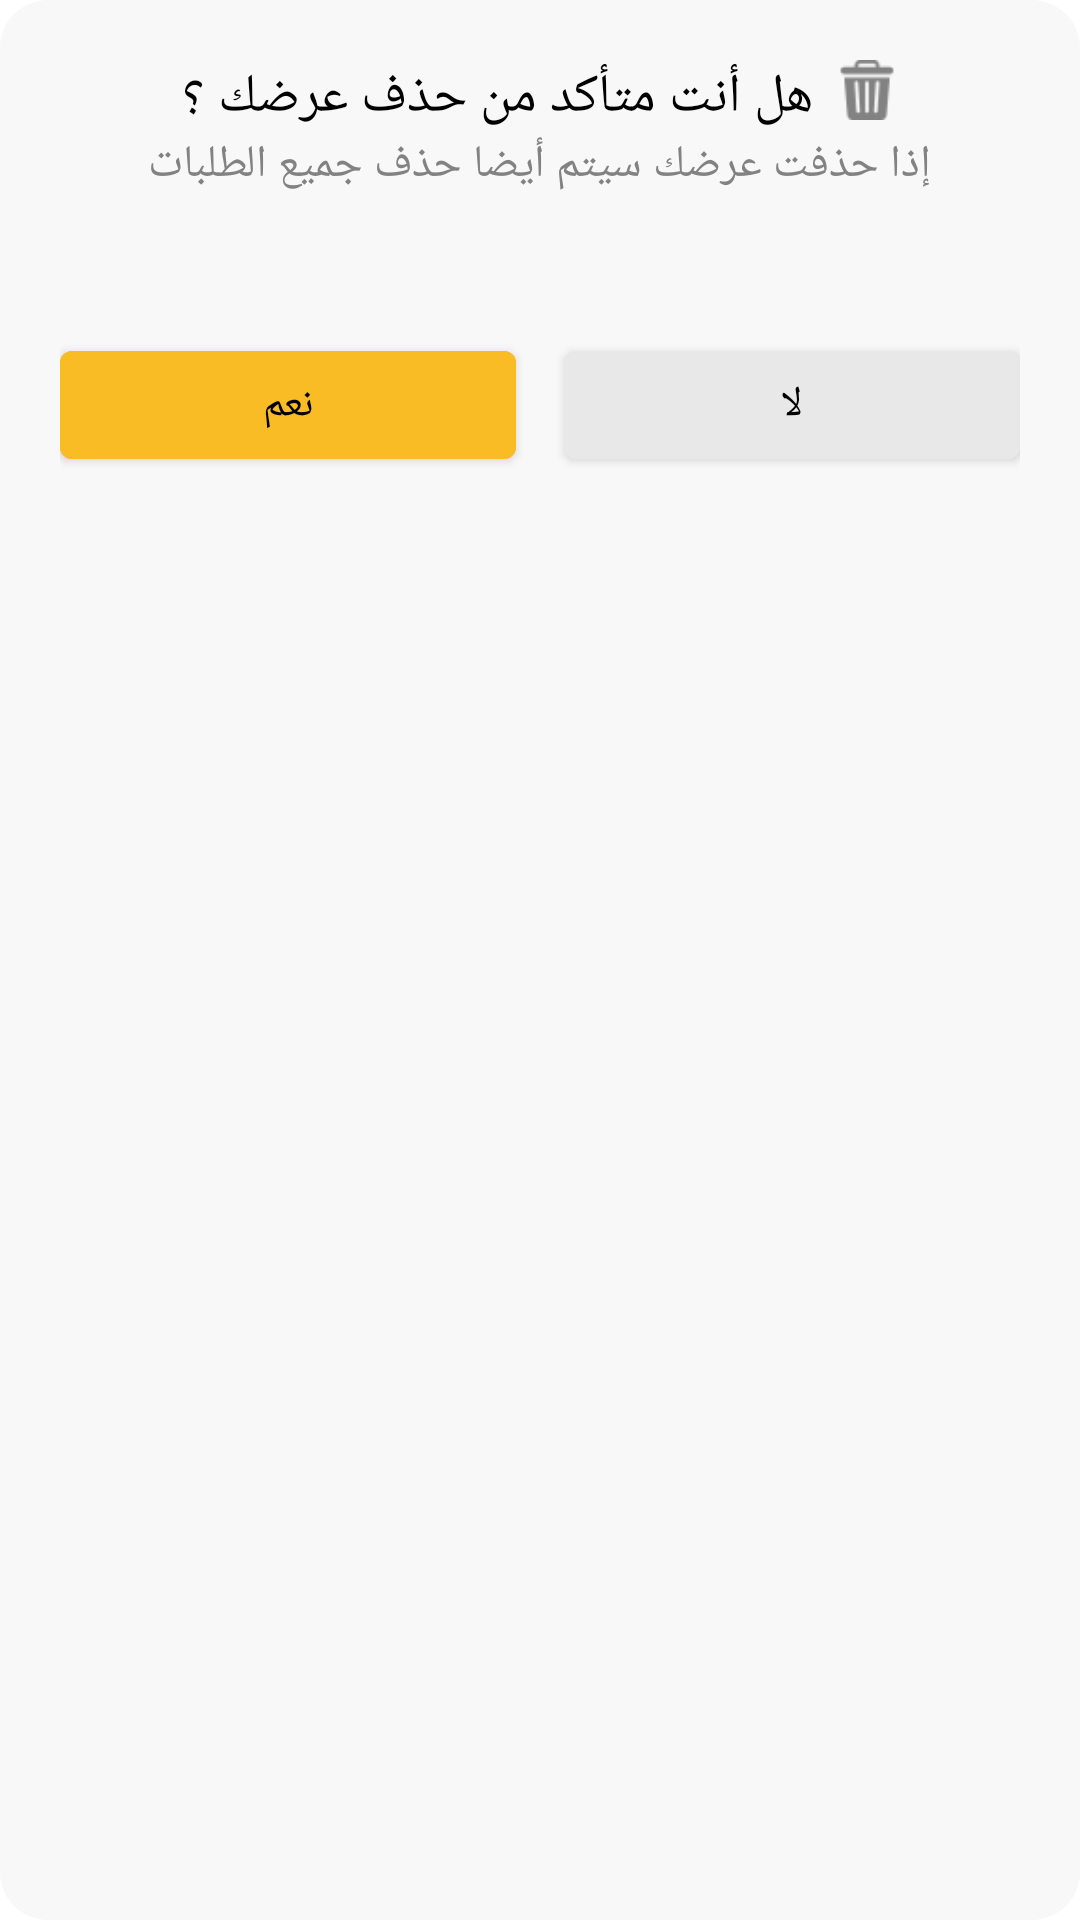

Where icons sit on this 1080w x 1920h app screen, as (x1, y1, x2, y2):
bin: (840, 60, 894, 120)
